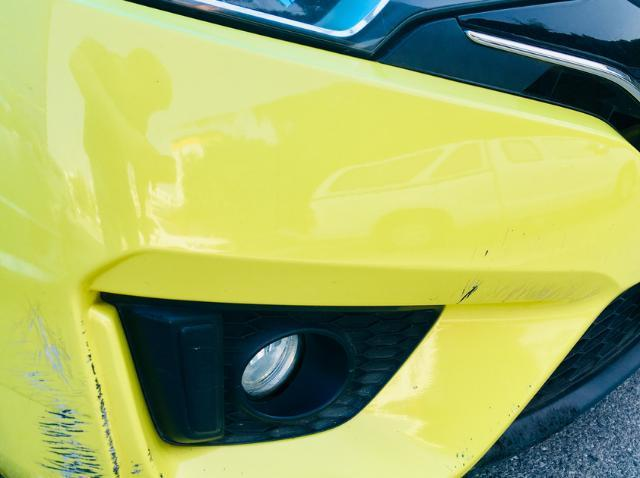Bumper: (0, 249, 484, 478)
